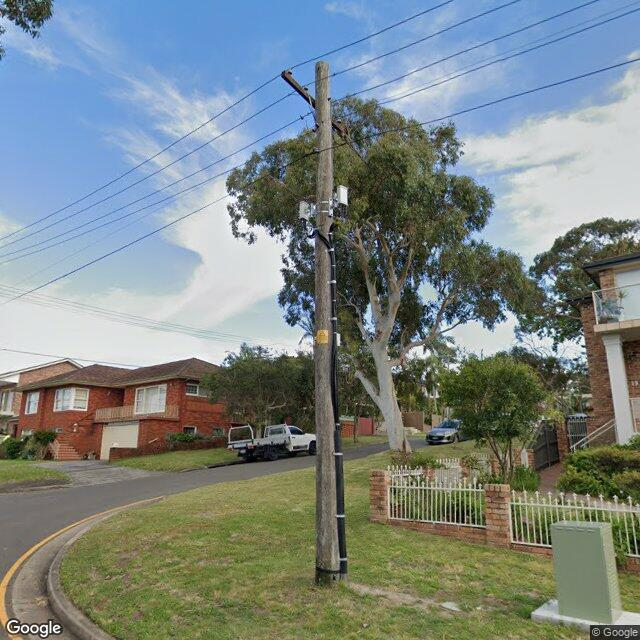crossarm: (279, 70, 358, 156)
timber-pole: (314, 61, 348, 584)
